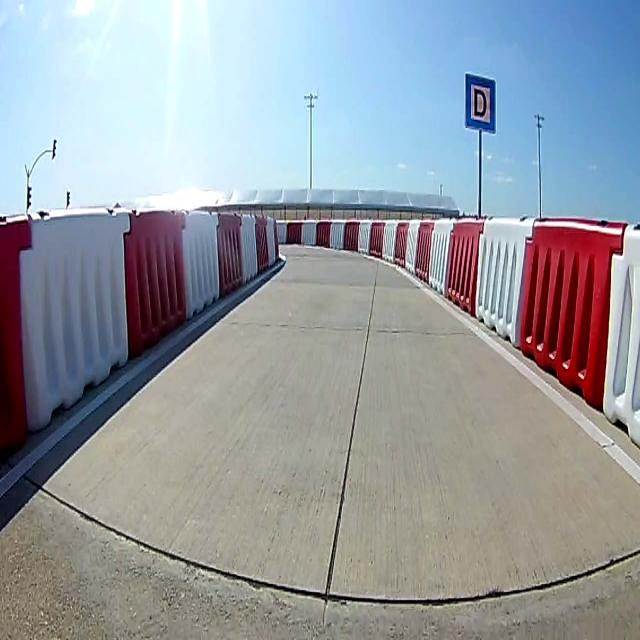durak: (466, 72, 494, 130)
